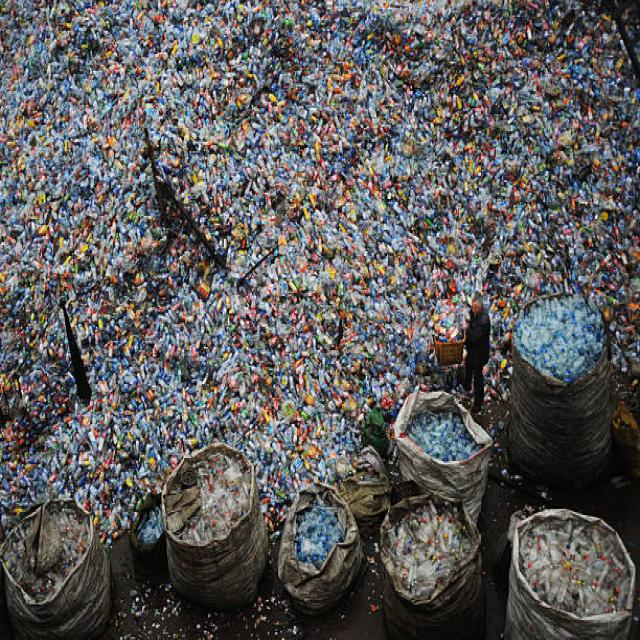plastic: (176, 464, 258, 543), (530, 526, 612, 603), (528, 299, 601, 370), (391, 520, 464, 580), (409, 407, 477, 455), (290, 504, 332, 569)
trash: (25, 17, 616, 301), (37, 341, 350, 470)
